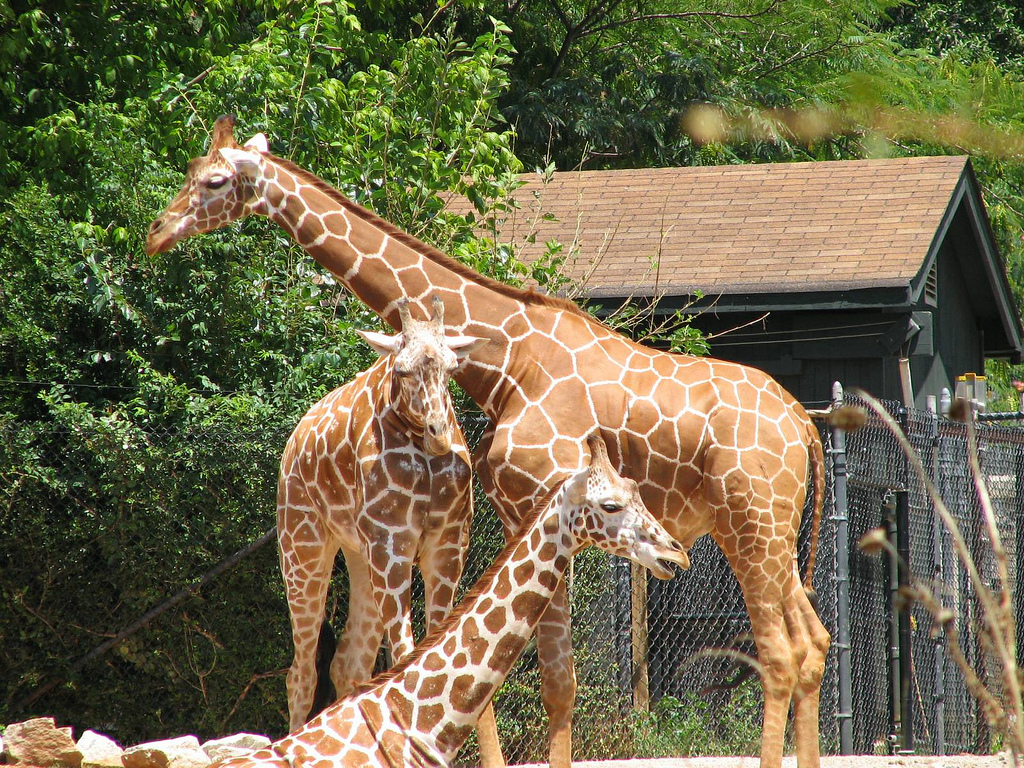giraffe: (166, 123, 847, 688), (231, 440, 708, 768), (267, 299, 468, 658)
